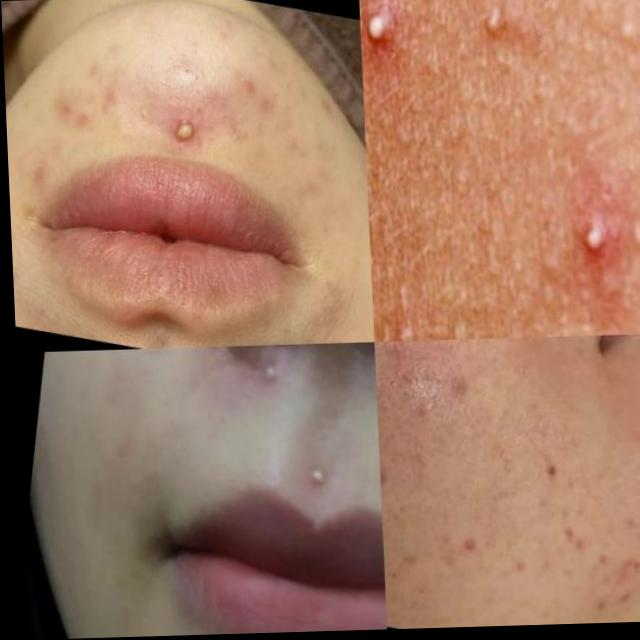9: (450, 0, 525, 66), (561, 198, 622, 278), (284, 447, 335, 507), (358, 0, 403, 66), (157, 104, 205, 159), (239, 351, 288, 396)
blackheads: (599, 555, 640, 617), (547, 520, 589, 567), (444, 524, 484, 570), (374, 454, 391, 503), (633, 531, 640, 594)
dark spot: (432, 341, 461, 368)
